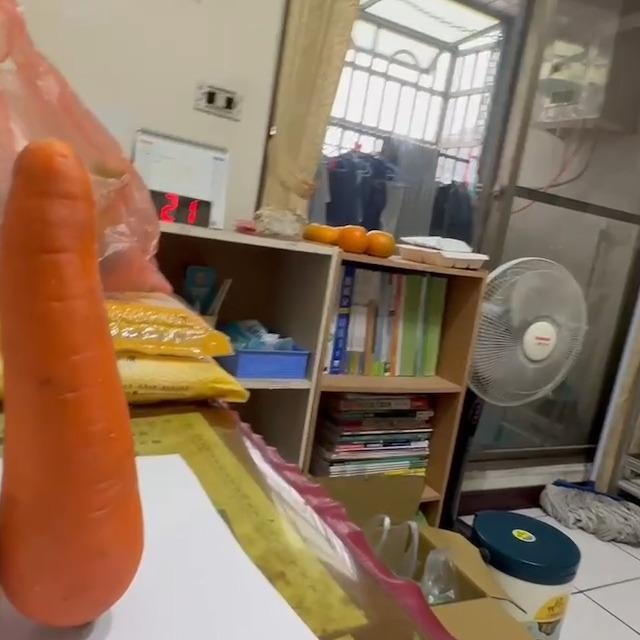carrot: (1, 138, 146, 631)
